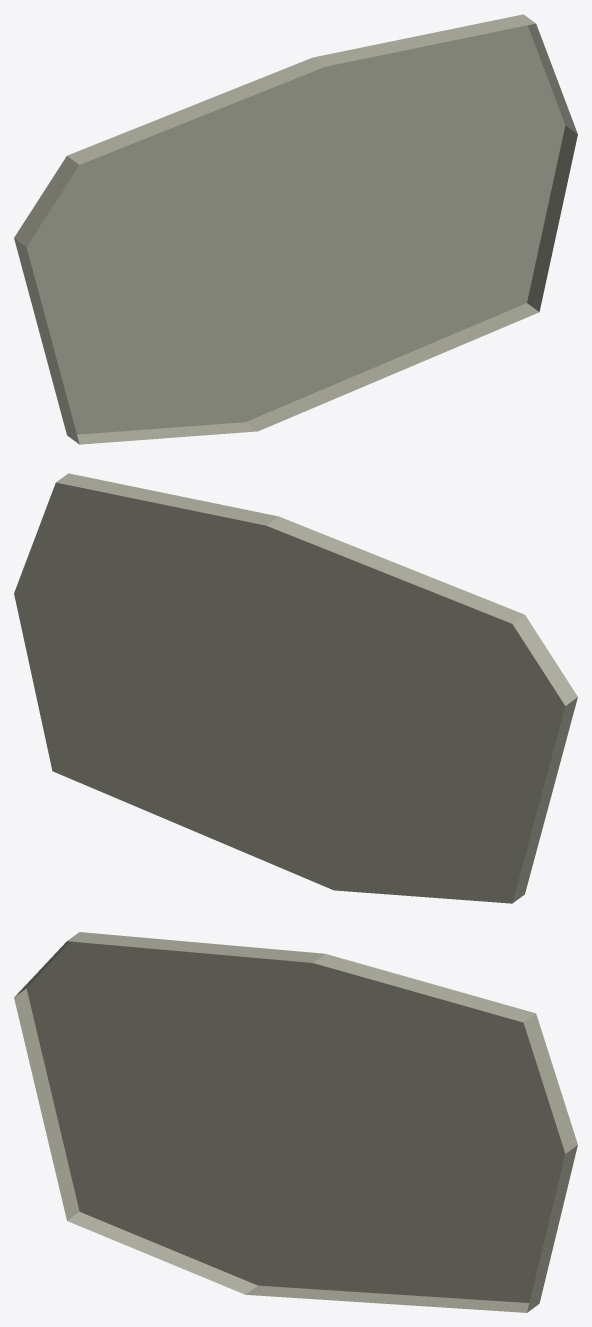
File: Stone Tile 01.FBX
3 views of the same model, one above another, from view 1: azimuth 30°, elevation 25°; view 2: azimuth 150°, elevation 25°; view 3: azimuth 330°, elevation 25° (orthographic).
Visible parts, largest first — view 1: Stone Tile 01; view 2: Stone Tile 01; view 3: Stone Tile 01.
Boxes of the visible parts, box(x1,y1,x2,y2) form: Stone Tile 01: box(14, 14, 577, 444); Stone Tile 01: box(14, 473, 577, 903); Stone Tile 01: box(14, 932, 577, 1312).
Bounding box in the file's own units: 87.27 × 3.45 × 52.67.
